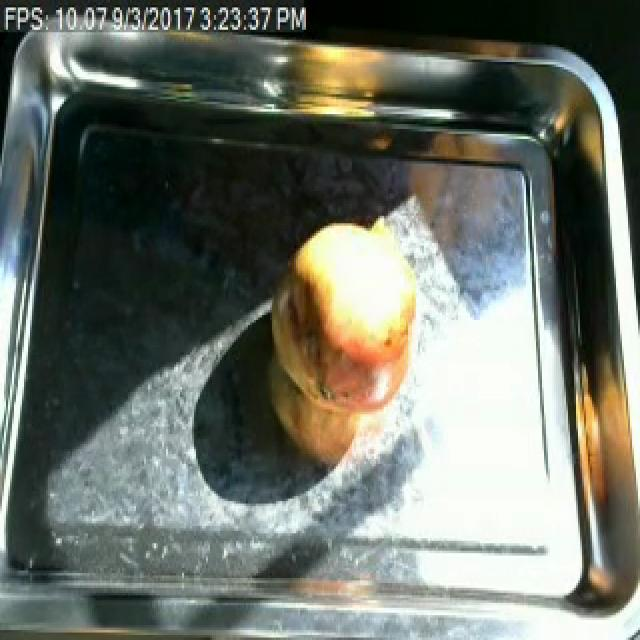fruit: (258, 204, 434, 434)
